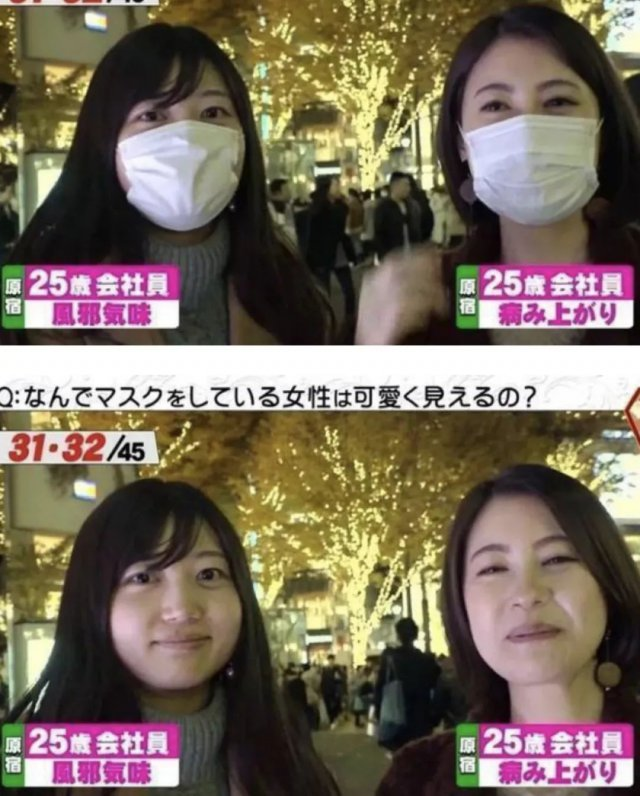mask: (463, 114, 600, 224), (118, 119, 247, 231)
